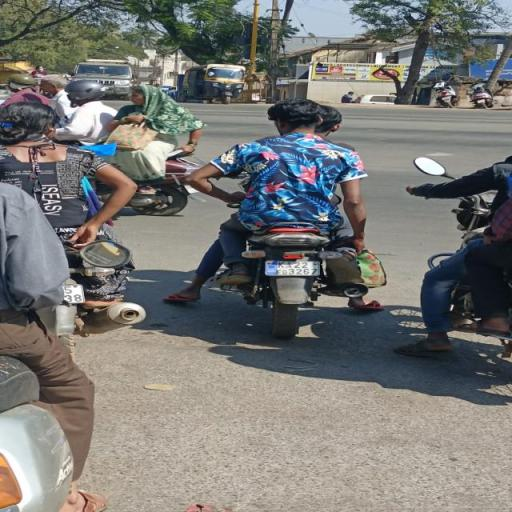bike: (184, 93, 386, 344)
numberplate: (268, 260, 320, 278)
withouthelmet: (270, 100, 320, 132), (322, 105, 338, 133)
